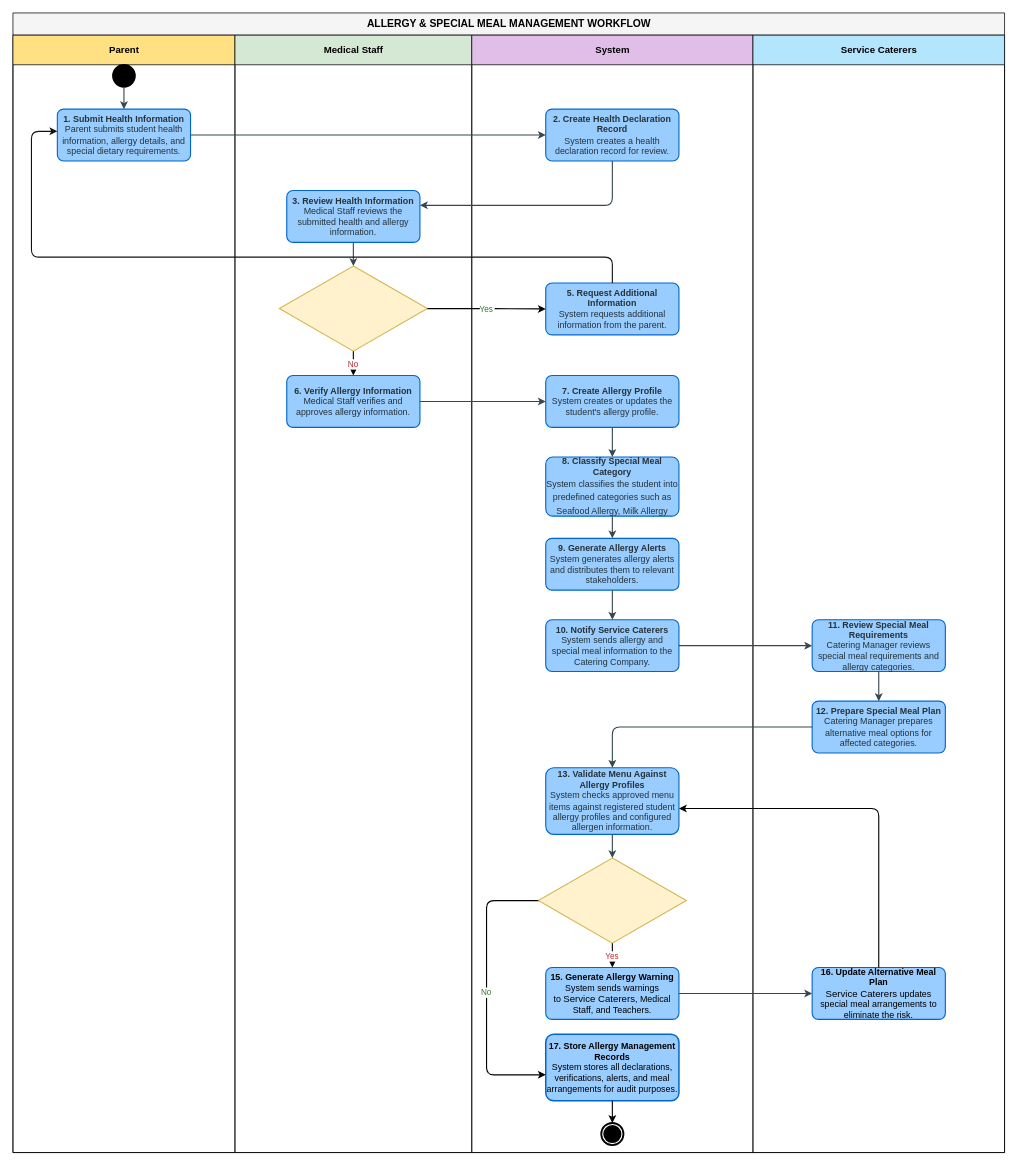
Some shapes in this 1018 by 1166 pixel diagram are drawn without their labels. Each missing label, with the box of its shape:
14. Allergy Conflict Detected? BR-063, BR-065, BR-066, BR-123: (537, 857, 687, 943)
4. Additional Verification Required? BR-031, BR-030 TTLT 13/2016/TTLT-BYT-BGDĐT: (278, 265, 428, 351)
